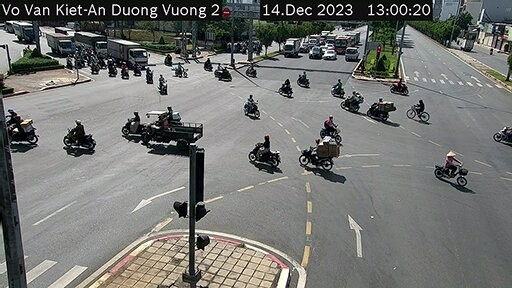motorbike: (8, 106, 46, 148), (54, 119, 91, 157), (337, 87, 375, 119), (246, 136, 278, 168), (302, 135, 336, 164), (124, 110, 150, 139), (369, 96, 393, 124), (319, 113, 342, 142), (331, 74, 349, 107), (243, 97, 266, 118), (396, 77, 407, 95)
truck: (74, 29, 112, 63), (109, 38, 147, 70), (47, 33, 73, 57), (282, 38, 296, 61)
